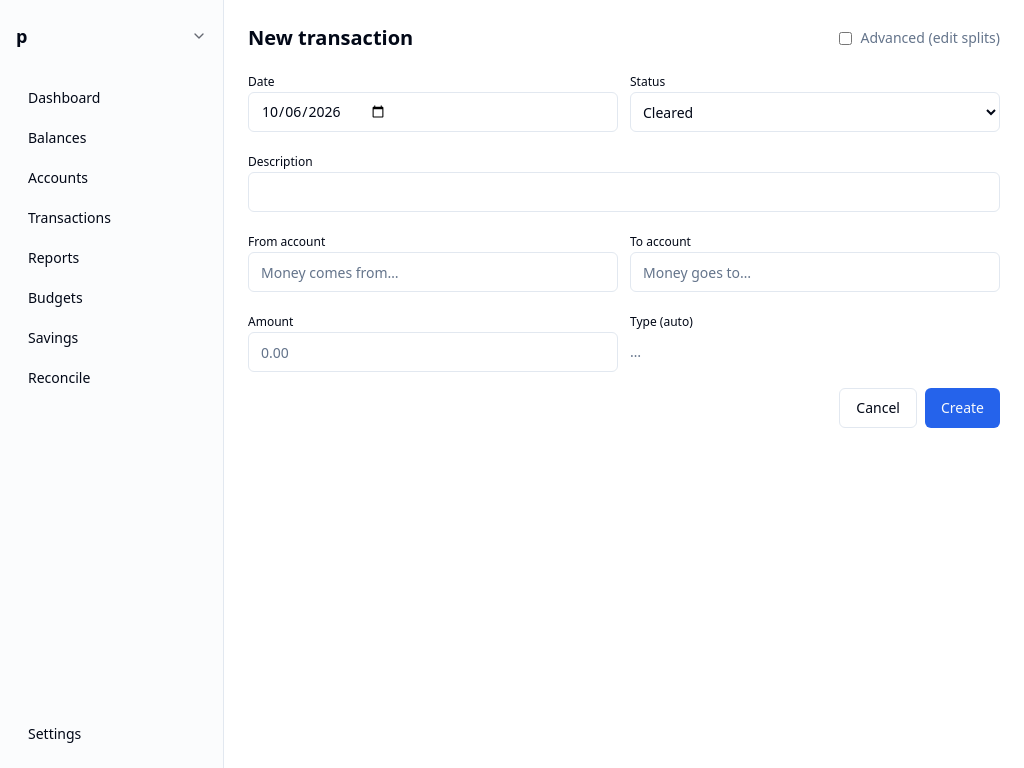
Test: Advanced toggle reveals the splits editor with balance indicator
Click the checkbox labelled "Advanced (edit splits)" at coordinates (846, 38), box [839,32,852,44]
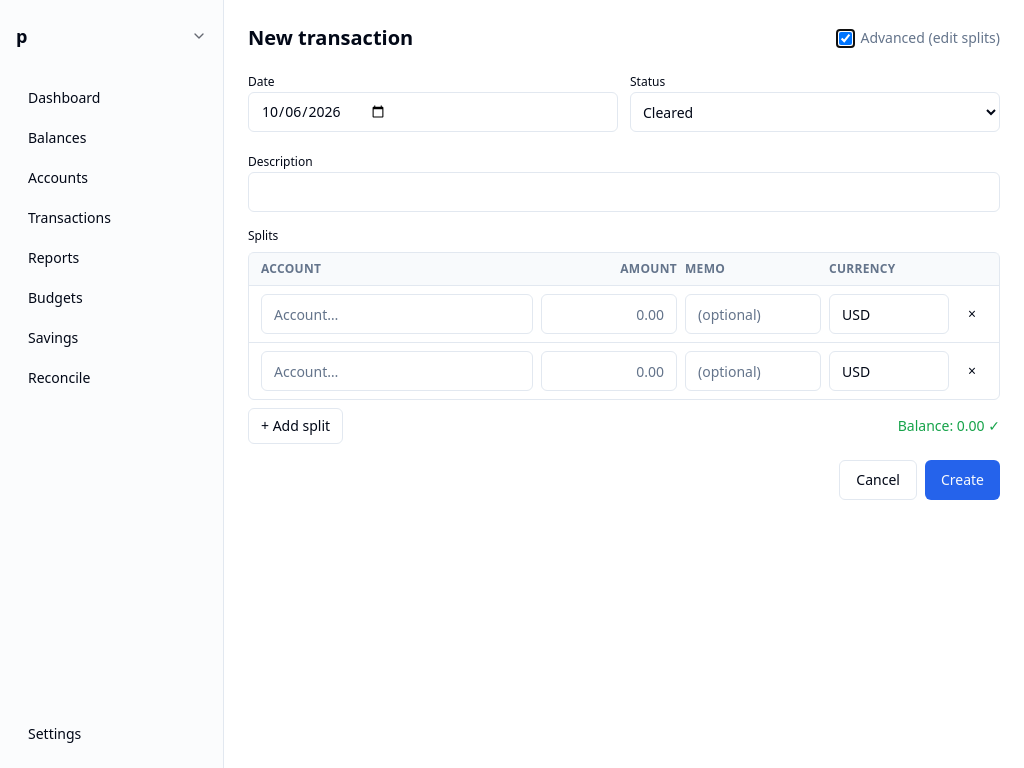
Expected: the text "Balance: 0.00 ✓" is shown, [898,416,1000,436]
Expected: the button "+ Add split" is shown, [248,408,343,444]
